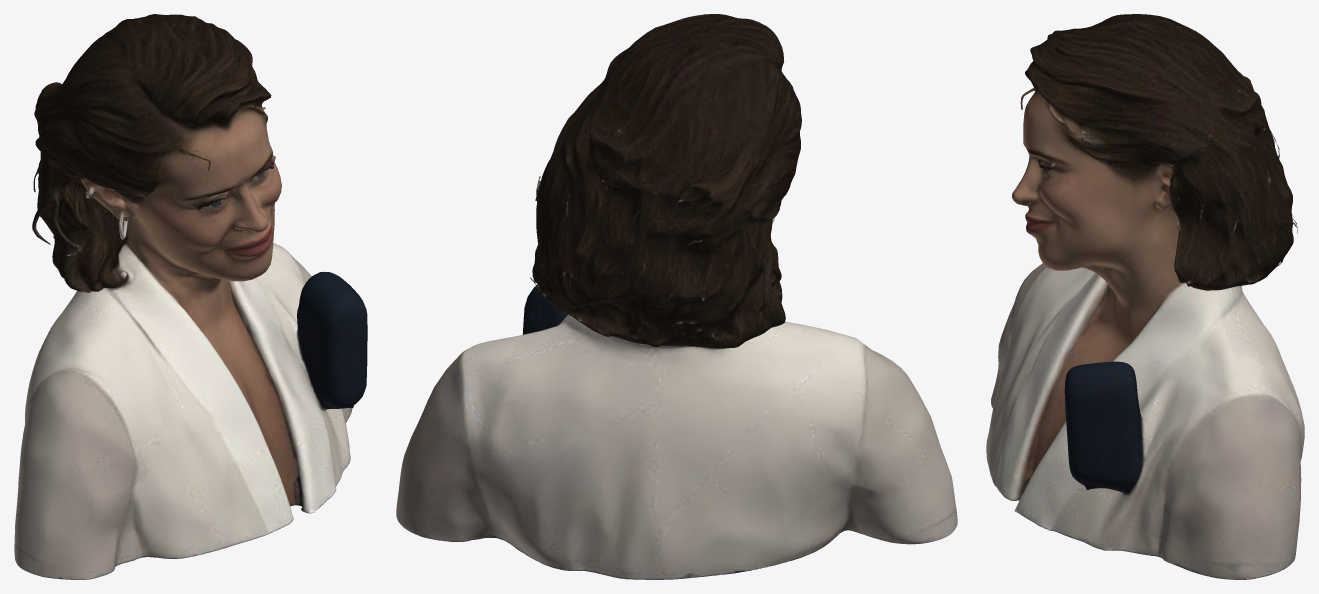
The model's file is Quiet_Confidence_compressed.glb.
3 renders of one model, left to right at view 1: azimuth 30°, elevation 25°; view 2: azimuth 150°, elevation 25°; view 3: azimuth 270°, elevation 25°, orthographic. The views are drawn at different scales.
Bounding box in the file's own units: 1.81 × 1.9 × 1.22.
Materials: 1 (1 with a texture image).
